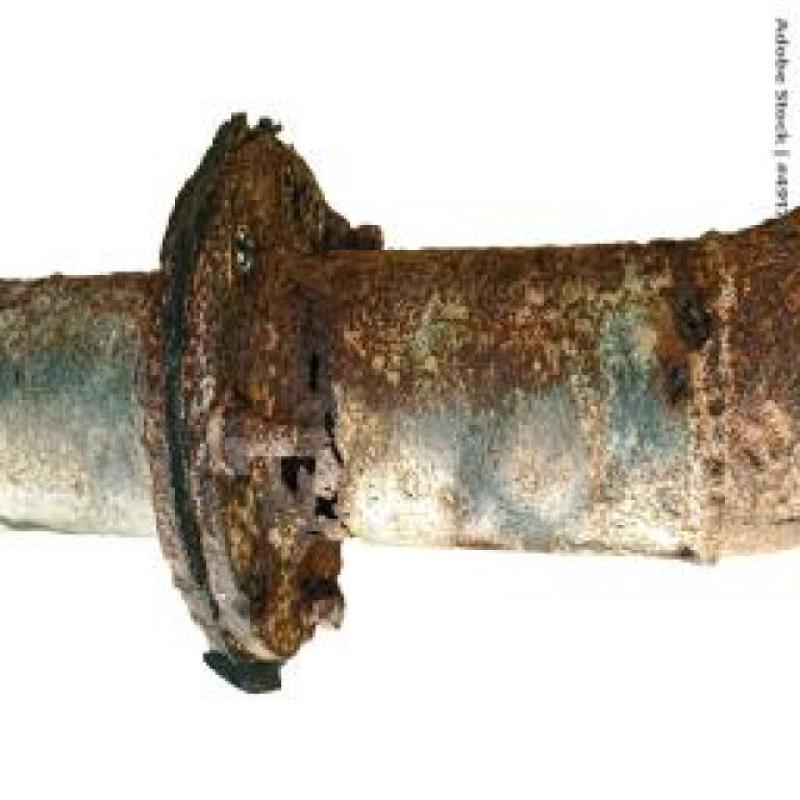Fracture: (263, 331, 360, 552)
corrosion: (438, 262, 792, 526), (144, 164, 226, 666), (248, 141, 348, 282)
